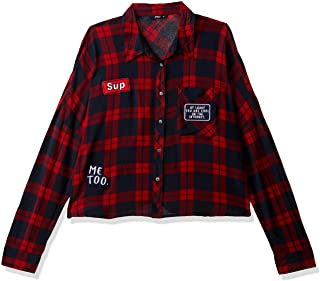shirt: (1, 1, 318, 275)
